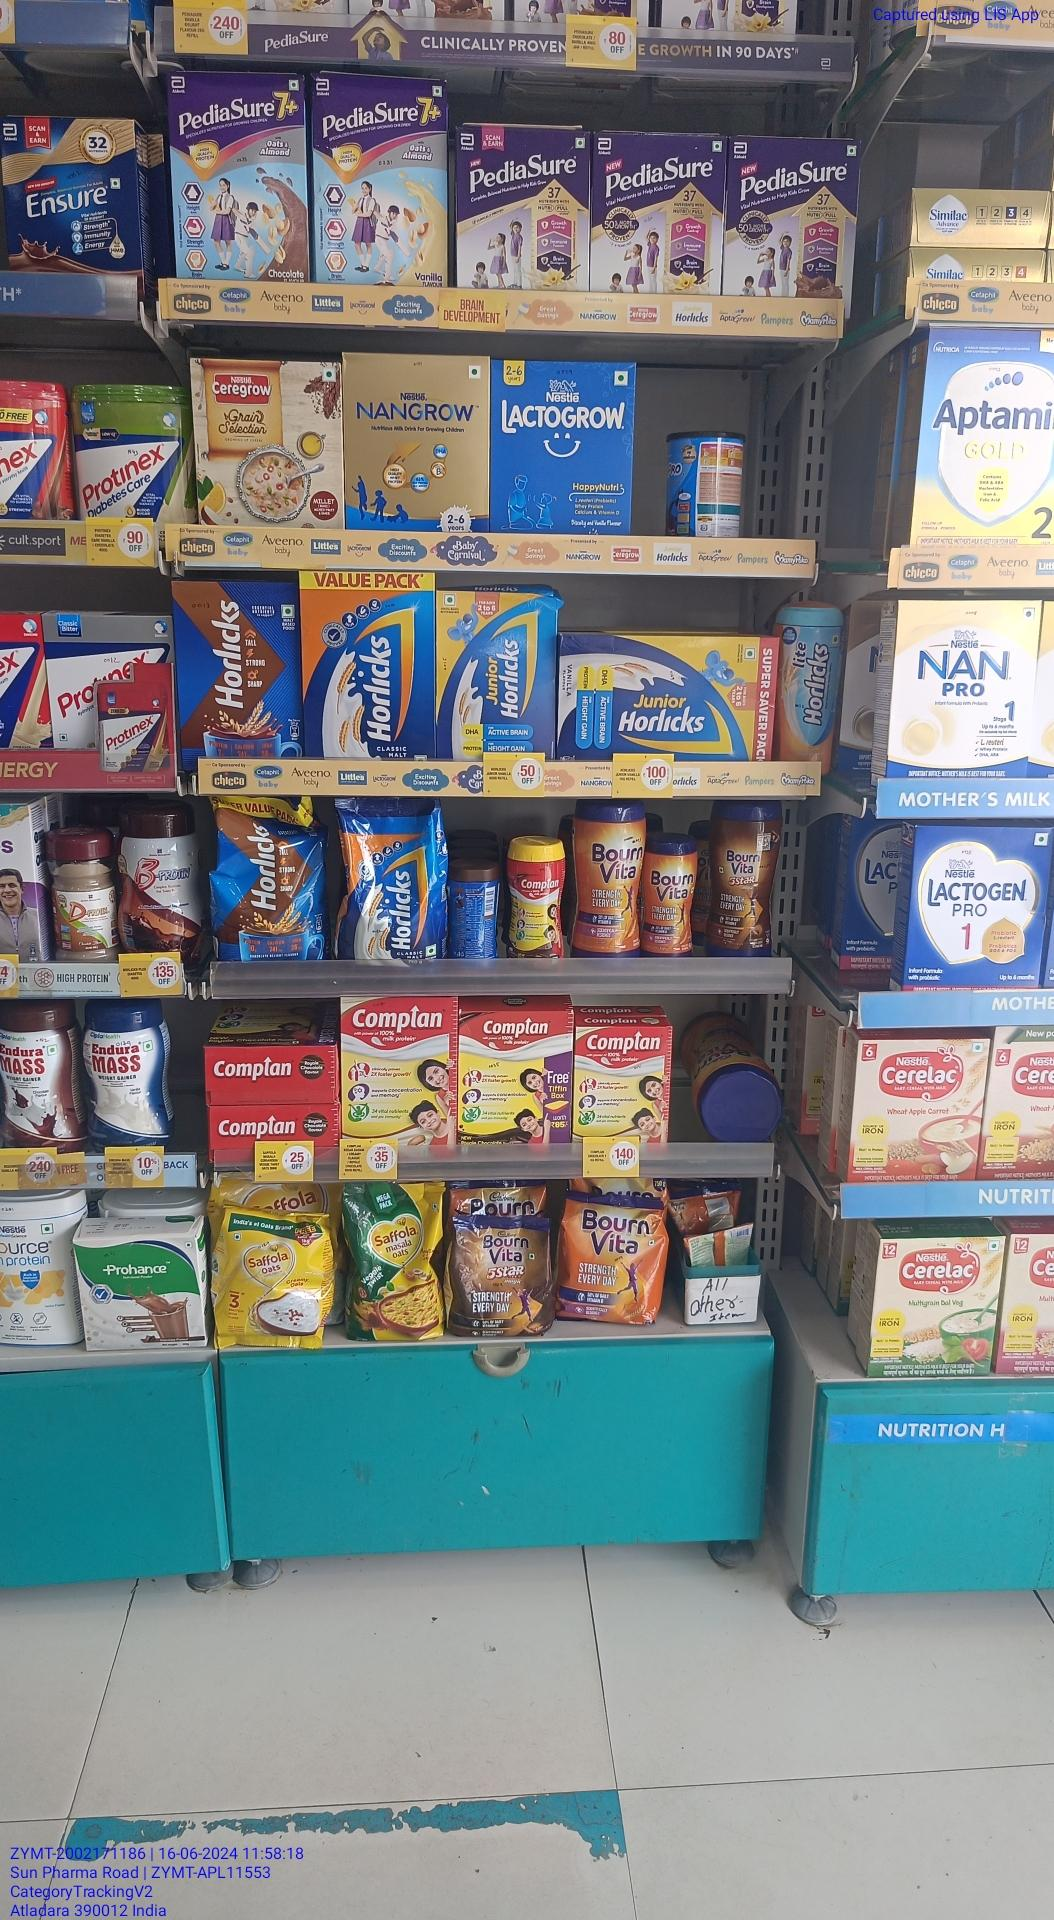COMPLAN_CHOCOLATE_200_GMS_JAR: (510, 835, 567, 964)
COMPLAN_KESAR_BADAM_200_GMS_PACK: (576, 1029, 666, 1139)
